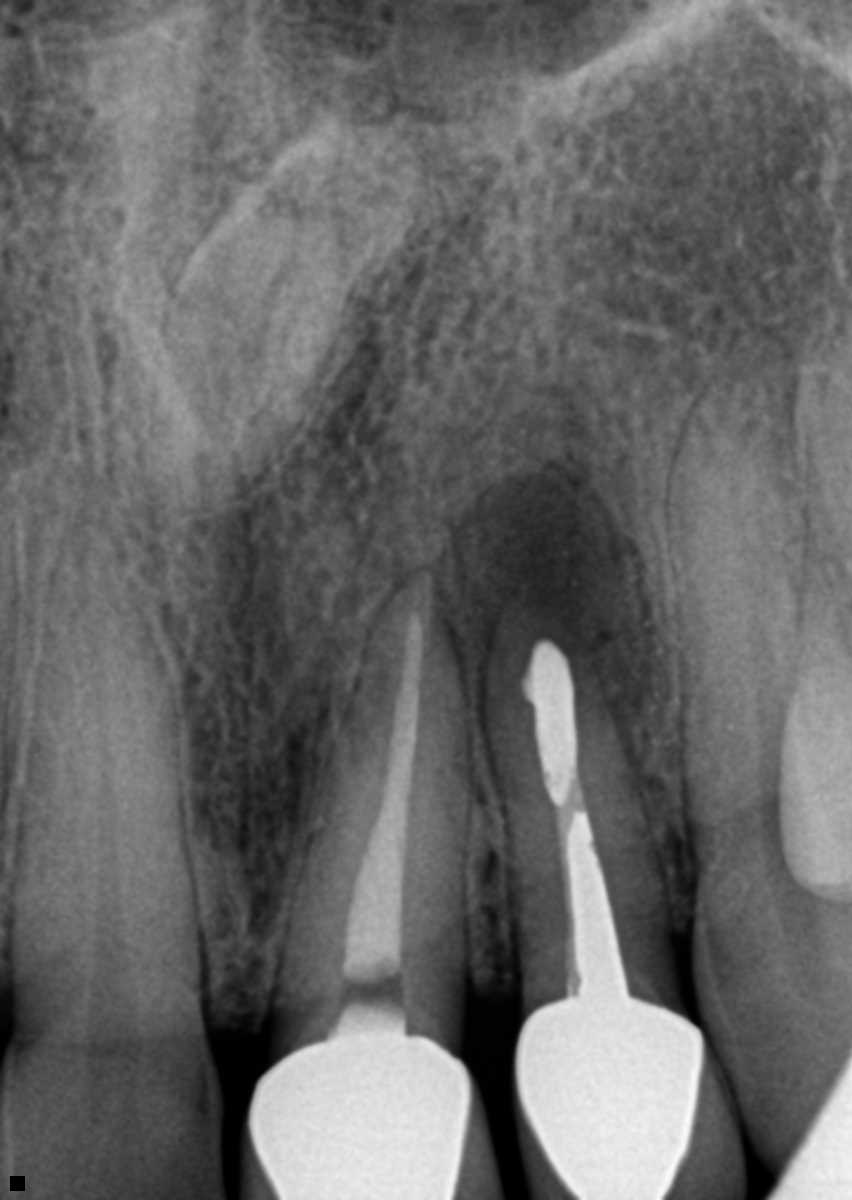Apical Lesion: (441, 451, 654, 709)
Main Canal: (77, 541, 133, 1002), (739, 495, 808, 851)
Main Root: (2, 521, 210, 1006), (676, 329, 852, 872), (264, 565, 472, 1000), (486, 582, 684, 999)
Root Canal Filling: (338, 608, 429, 984)
